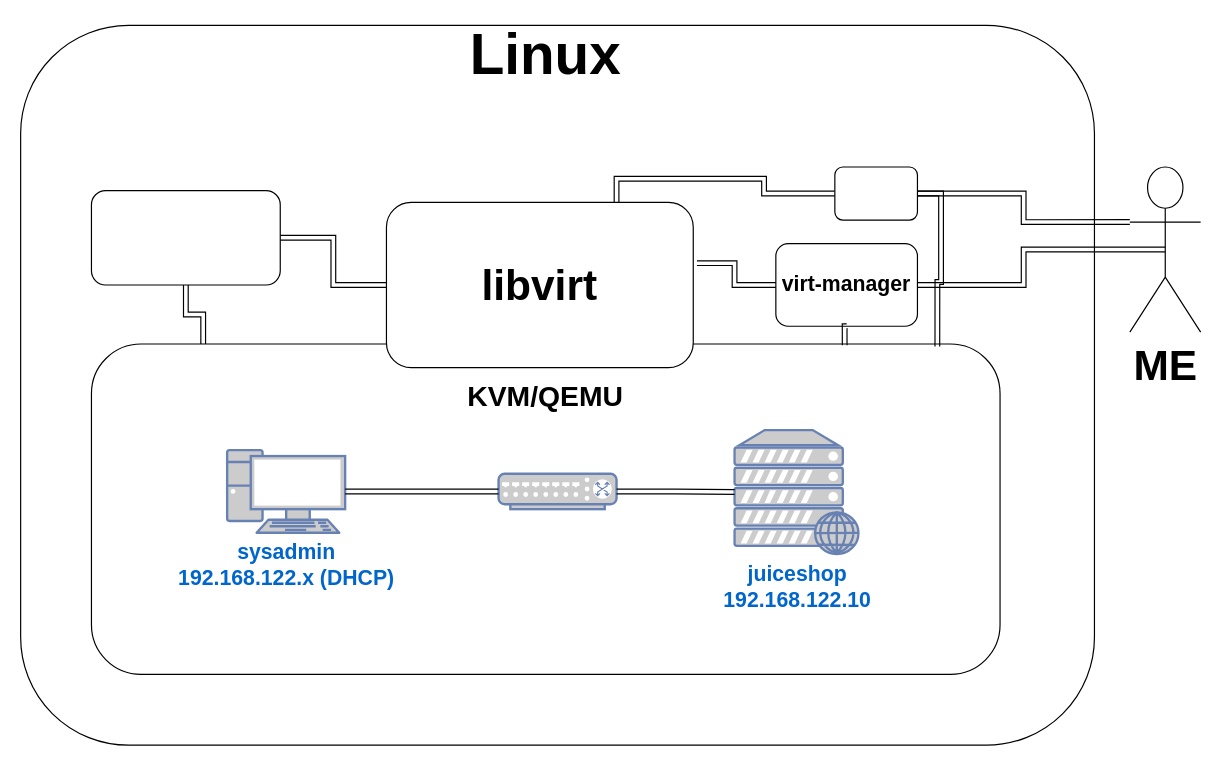
This 1221x766 diagram has some shape labels left out. The centre of each missing label's shape, as x and y in pixels:
default (virbr0) 192.168.122.1: the point at 557,491
Network Services (dns, dhcp, nat): the point at 185,237
virsh: the point at 875,193
